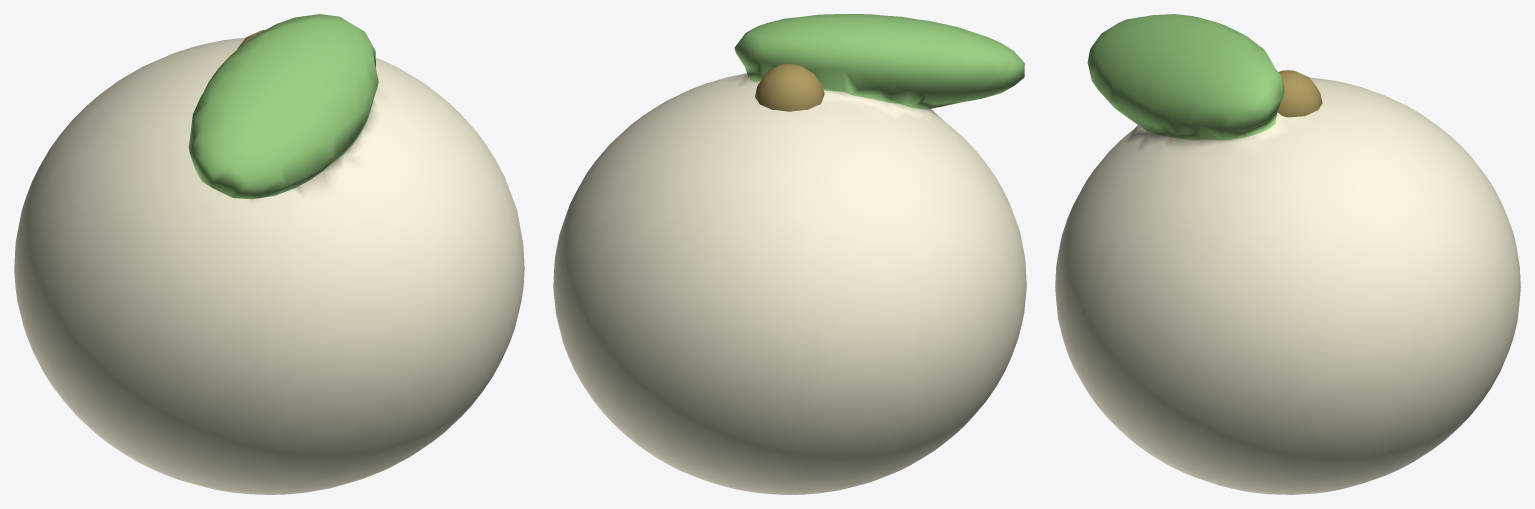
The model's file is prop_yuzu.glb.
The picture shows the model from 3 angles, left to right: view 1: azimuth 30°, elevation 25°; view 2: azimuth 150°, elevation 25°; view 3: azimuth 270°, elevation 25°; orthographic projection. The views are drawn at different scales.
Visible parts, largest first — view 1: body; view 2: body, center; view 3: body, center.
Part boxes in pixels (<box>): body: <box>14,14,524,494</box>; body: <box>553,14,1026,494</box>; center: <box>755,64,824,111</box>; body: <box>1055,14,1520,494</box>; center: <box>1277,70,1322,117</box>.
Size of the model in its own units: 0.3199 by 0.3197 by 0.3199.
